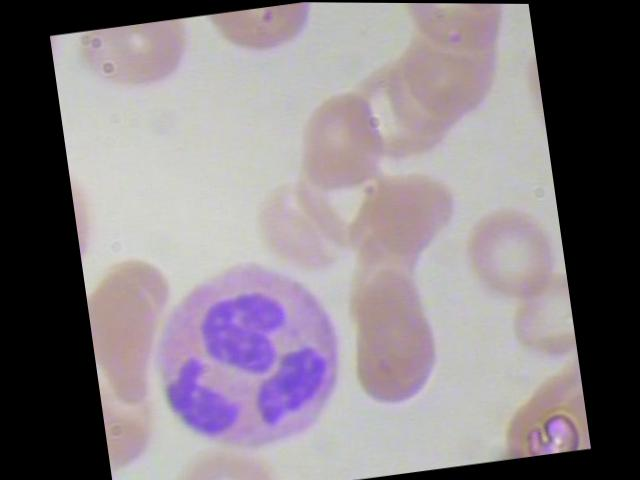Red Blood Cells: (338, 295, 448, 414), (286, 81, 396, 199), (456, 193, 561, 309), (252, 167, 360, 277), (76, 16, 200, 102), (190, 1, 322, 70), (397, 2, 512, 66), (171, 429, 284, 479)
White Blood Cells: (137, 243, 363, 469)
